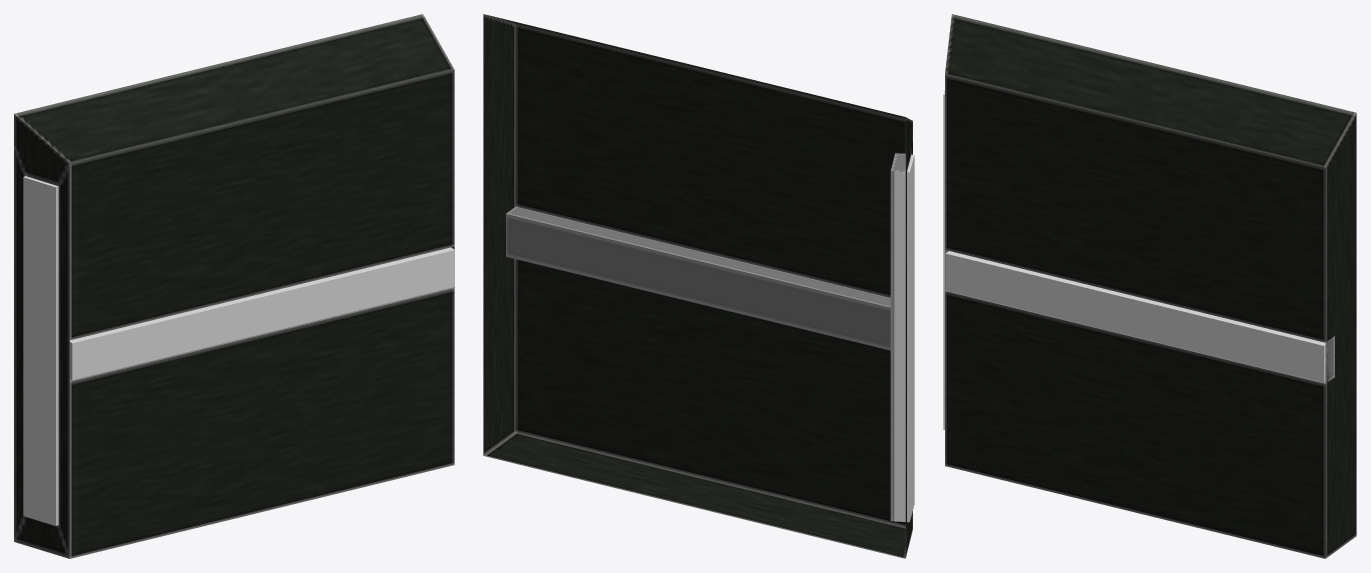
The model's file is CubeBaseFrontWallRight.fbx.
The picture shows the model from 3 angles, left to right: view 1: azimuth 30°, elevation 25°; view 2: azimuth 150°, elevation 25°; view 3: azimuth 330°, elevation 25°; orthographic projection. The views are drawn at different scales.
Parts seen in each view (by area): view 1: pCube1, pCube2, pCube3; view 2: pCube1, pCube3; view 3: pCube1, pCube2, pCube3.
Boxes of the visible parts, x1=… form: pCube1: x1=14, y1=14, x2=454, y2=558; pCube2: x1=69, y1=247, x2=454, y2=380; pCube3: x1=23, y1=176, x2=58, y2=525; pCube1: x1=483, y1=14, x2=912, y2=558; pCube3: x1=894, y1=154, x2=914, y2=522; pCube1: x1=945, y1=14, x2=1356, y2=558; pCube2: x1=945, y1=251, x2=1325, y2=382; pCube3: x1=943, y1=90, x2=944, y2=429.
Size of the model in its own units: 1 by 1 by 0.1368.
2 materials, 1 textured.
